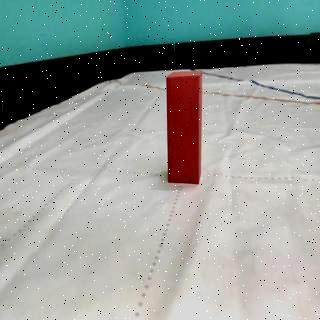redbox: (166, 70, 202, 184)
